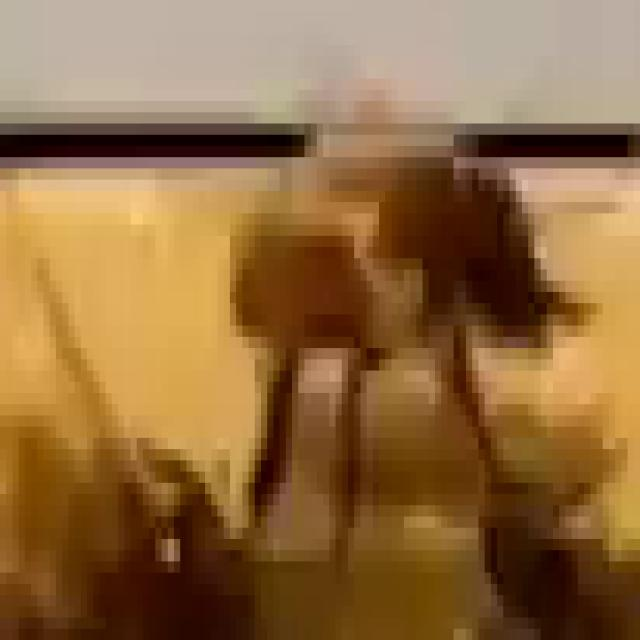honeybee: (202, 107, 556, 475)
